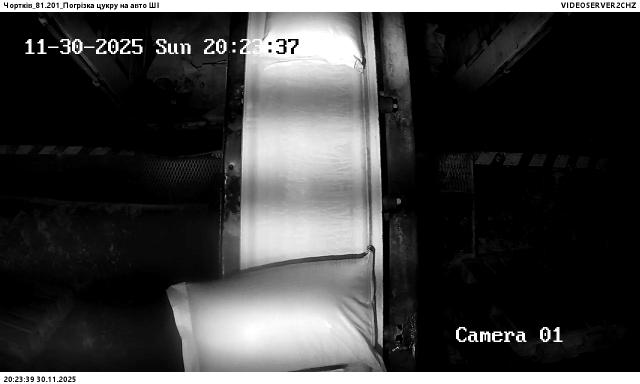bag: (168, 251, 388, 371), (261, 13, 370, 72)
